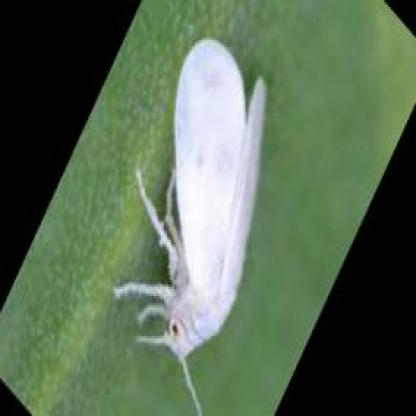whitefly: (164, 35, 266, 353)
